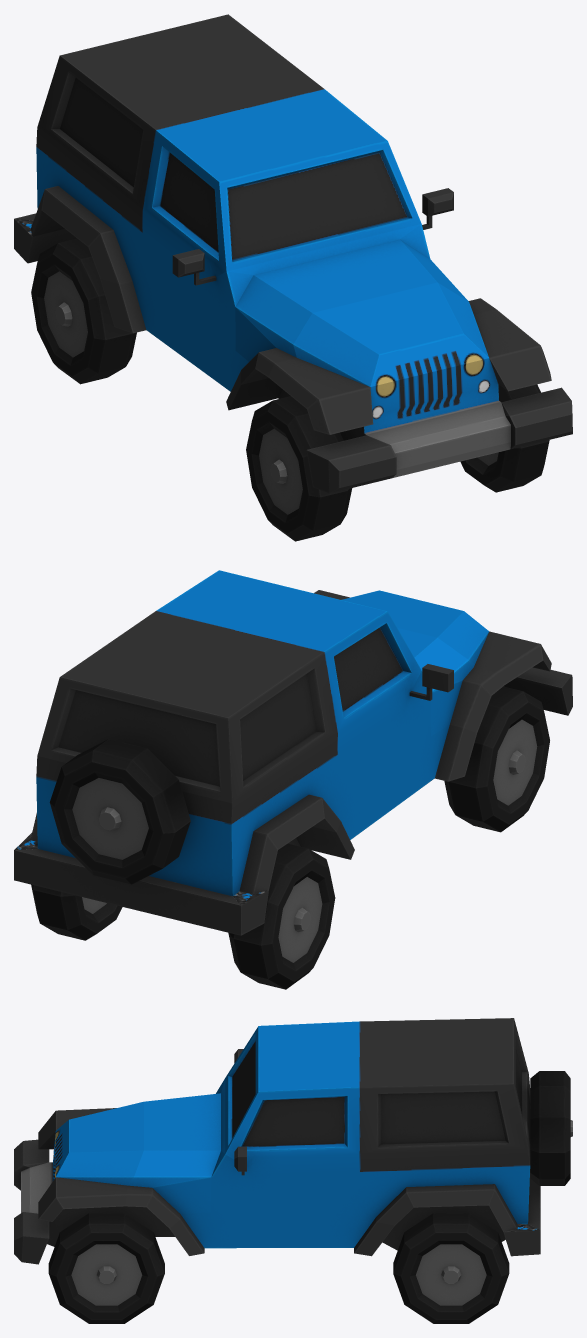
File: Car.obj
3 renders of one model, top to bottom at view 1: azimuth 30°, elevation 25°; view 2: azimuth 150°, elevation 25°; view 3: azimuth 270°, elevation 25°, orthographic. The views are drawn at different scales.
Visible parts, largest first — view 1: Jeep_mesh; view 2: Jeep_mesh; view 3: Jeep_mesh.
Boxes of the visible parts, bbox=[...] form: Jeep_mesh: bbox=[14, 14, 572, 541]; Jeep_mesh: bbox=[14, 570, 572, 989]; Jeep_mesh: bbox=[14, 1018, 572, 1323].
Bounding box in the file's own units: 11.93 × 11.78 × 26.15.
